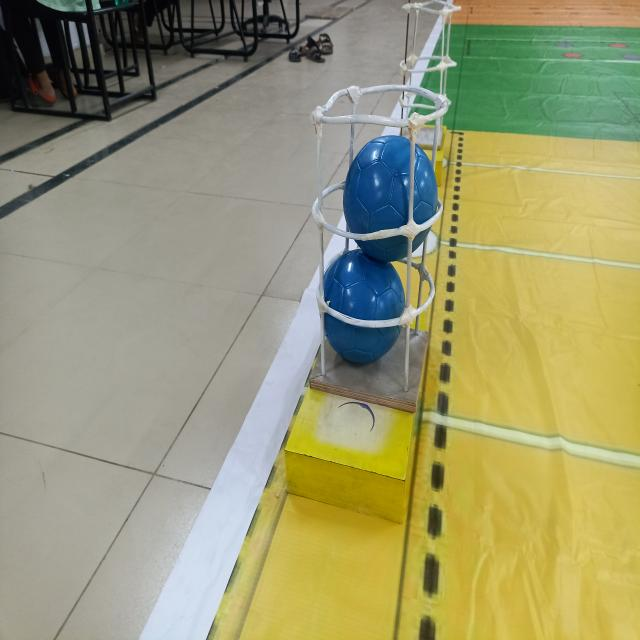blue_ball: (340, 135, 437, 264), (318, 245, 408, 373)
silo: (312, 76, 429, 413)
